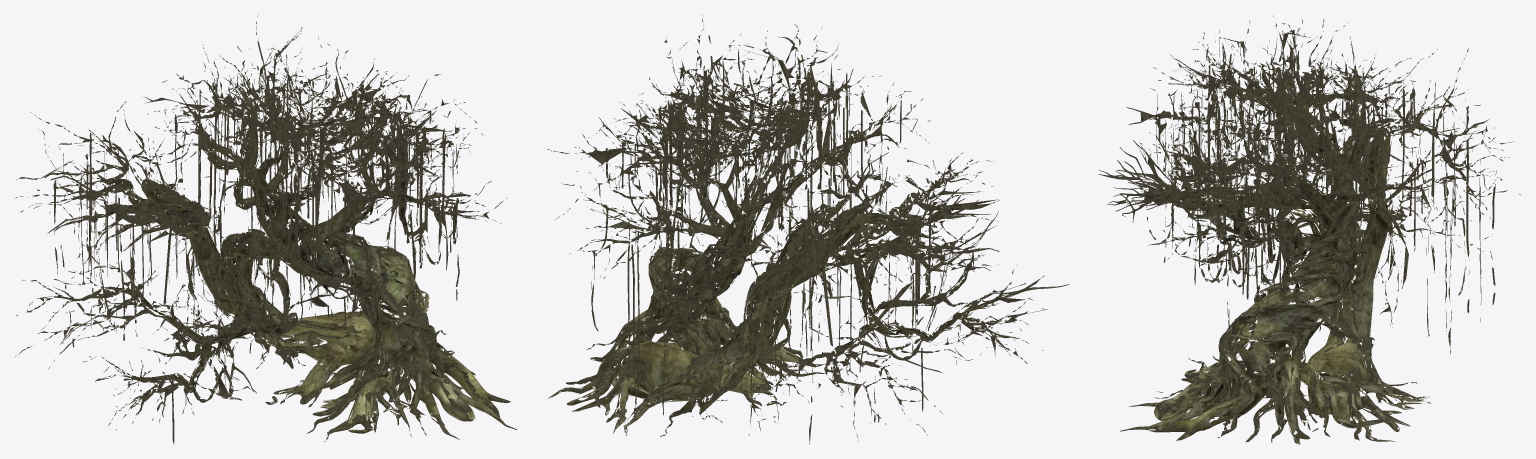
The model's file is old_tree_with_vine_3d_model_free.opt.glb.
3 renders of one model, left to right at view 1: azimuth 30°, elevation 25°; view 2: azimuth 150°, elevation 25°; view 3: azimuth 270°, elevation 25°, orthographic. The views are drawn at different scales.
Visible parts, largest first — view 1: Object_4, Object_5, Object_6, Object_7, Object_15, Object_19, Object_9, Object_13, Object_14, Object_22, Object_21, Object_12 (+20 smaller); view 2: Object_5, Object_4, Object_22, Object_6, Object_23, Object_21, Object_24, Object_25, Object_33, Object_26, Object_20, Object_27 (+20 smaller); view 3: Object_5, Object_4, Object_6, Object_22, Object_7, Object_21, Object_15, Object_23, Object_30, Object_24, Object_16, Object_8 (+20 smaller).
Part boxes in pixels (box(x1,y1,x2,y2)): Object_4: box(50, 31, 459, 428); Object_5: box(20, 53, 484, 427); Object_6: box(50, 69, 516, 439); Object_7: box(149, 144, 509, 436); Object_15: box(89, 73, 475, 416); Object_19: box(111, 61, 429, 404); Object_9: box(112, 99, 498, 441); Object_13: box(113, 75, 491, 402); Object_14: box(108, 79, 459, 421); Object_22: box(33, 53, 393, 371); Object_21: box(71, 52, 429, 403); Object_12: box(113, 106, 483, 433); Object_5: box(572, 51, 1003, 427); Object_4: box(607, 41, 1052, 415); Object_22: box(560, 122, 943, 421); Object_6: box(595, 36, 1069, 444); Object_23: box(551, 106, 929, 422); Object_21: box(624, 54, 975, 399); Object_24: box(547, 107, 940, 435); Object_25: box(547, 117, 944, 435); Object_33: box(586, 44, 948, 406); Object_26: box(562, 131, 911, 441); Object_20: box(590, 31, 983, 389); Object_27: box(555, 193, 867, 422); Object_5: box(1103, 39, 1512, 426); Object_4: box(1126, 32, 1485, 426); Object_6: box(1098, 37, 1481, 431); Object_22: box(1299, 37, 1432, 439); Object_7: box(1138, 67, 1303, 440); Object_21: box(1281, 24, 1369, 432); Object_15: box(1236, 23, 1342, 424); Object_23: box(1351, 45, 1409, 441); Object_30: box(1295, 25, 1344, 396); Object_24: box(1359, 59, 1428, 440); Object_16: box(1243, 20, 1314, 442); Object_8: box(1167, 54, 1384, 440).
Size of the model in its own units: 1.89 by 1.65 by 1.82.
1 material, 1 textured.
